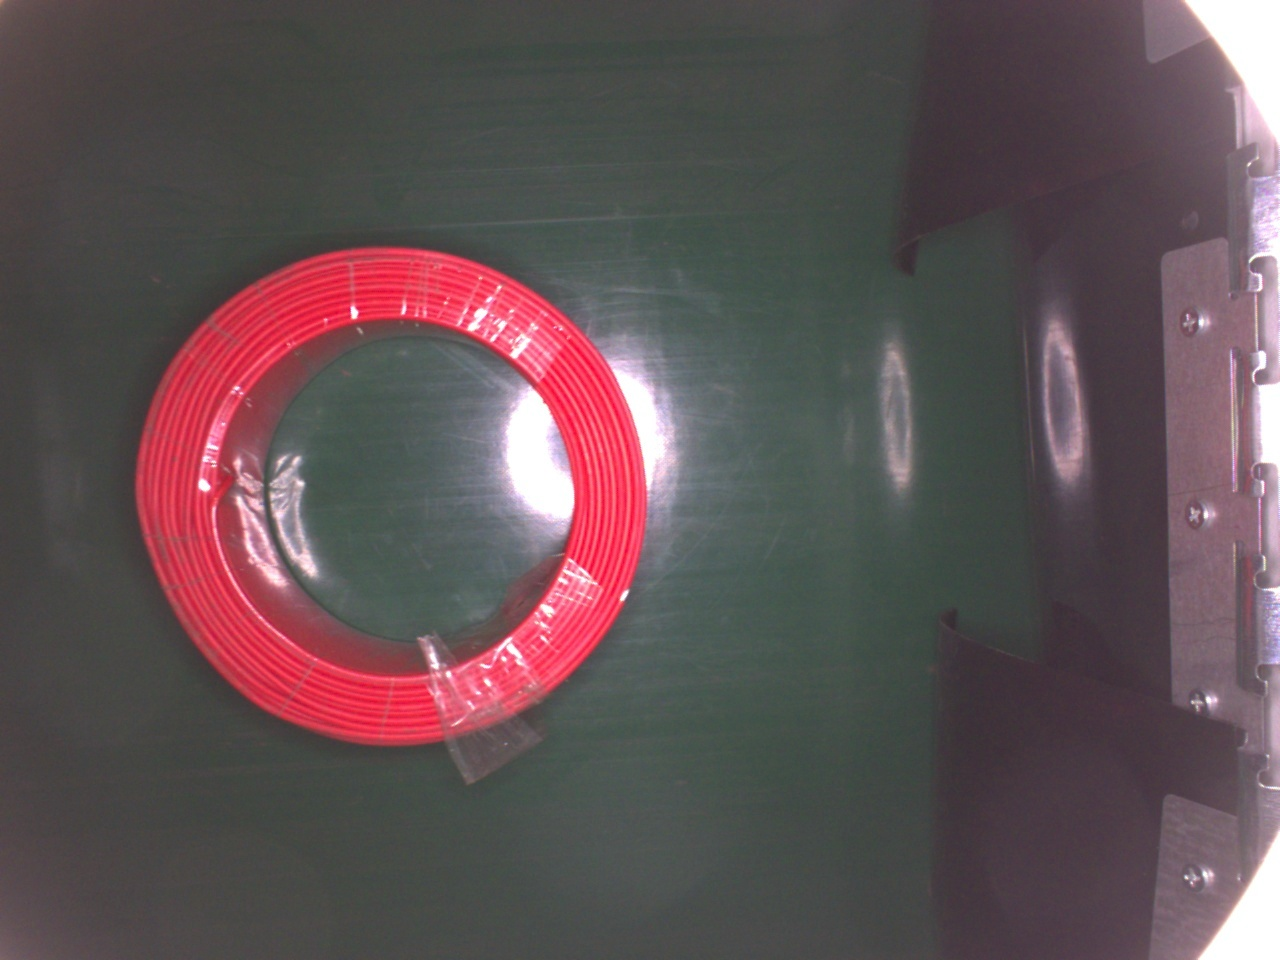red: (133, 242, 646, 750)
